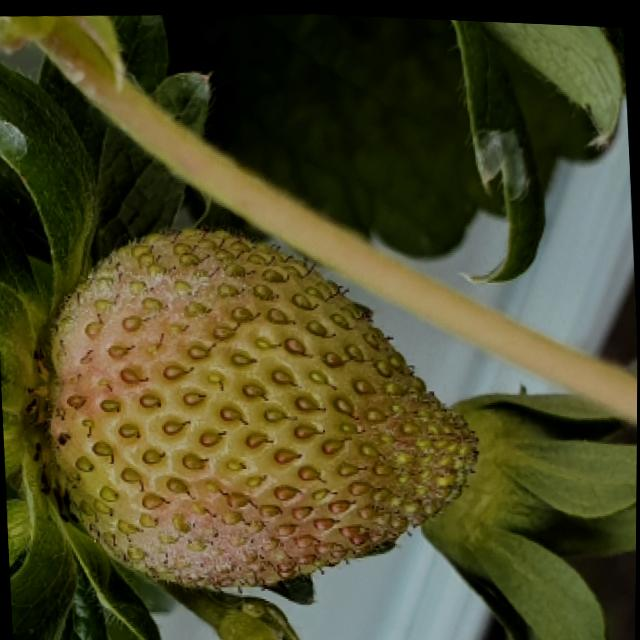Powdery Mildew Fruit: (35, 224, 479, 587)
